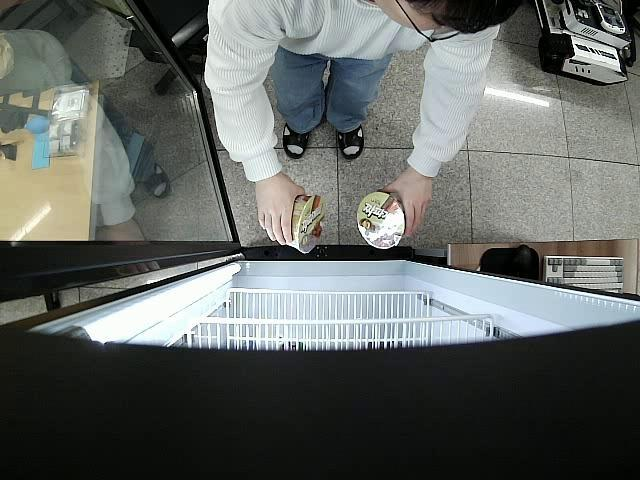03_chapagetti_L: (275, 194, 326, 255), (357, 192, 404, 252)
